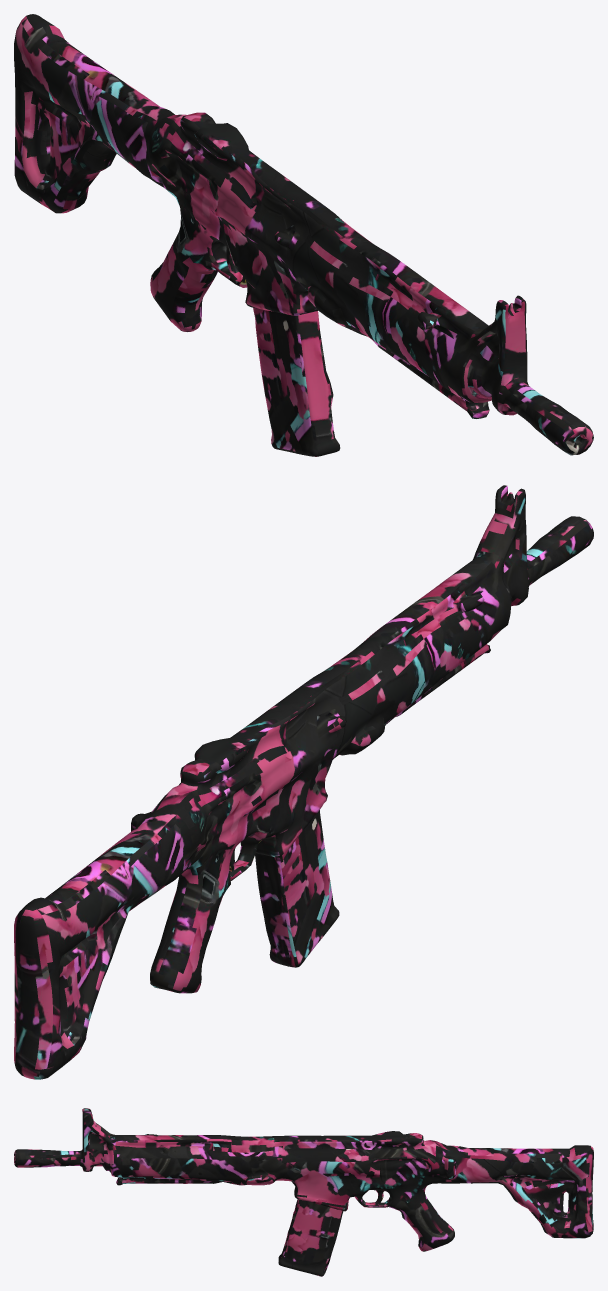
Rendered from TalonSkullSkin.fbx.
3 renders of one model, top to bottom at view 1: azimuth 30°, elevation 25°; view 2: azimuth 150°, elevation 25°; view 3: azimuth 270°, elevation 25°, orthographic. The views are drawn at different scales.
Parts seen in each view (by area): view 1: TalonSkullBody, TalonSkullCharger; view 2: TalonSkullBody, TalonSkullCharger; view 3: TalonSkullBody, TalonSkullCharger.
Boxes of the visible parts, x1=… form: TalonSkullBody: x1=14, y1=14, x2=593, y2=455; TalonSkullCharger: x1=253, y1=307, x2=340, y2=456; TalonSkullBody: x1=14, y1=485, x2=593, y2=1079; TalonSkullCharger: x1=255, y1=810, x2=339, y2=967; TalonSkullBody: x1=14, y1=1108, x2=593, y2=1251; TalonSkullCharger: x1=278, y1=1199, x2=343, y2=1276.
Size of the model in its own units: 6.74 by 31.03 by 99.98.
